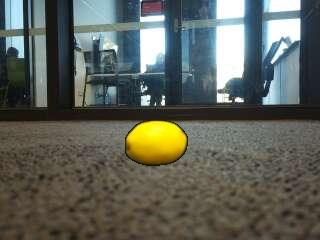lemon: (126, 121, 187, 165)
